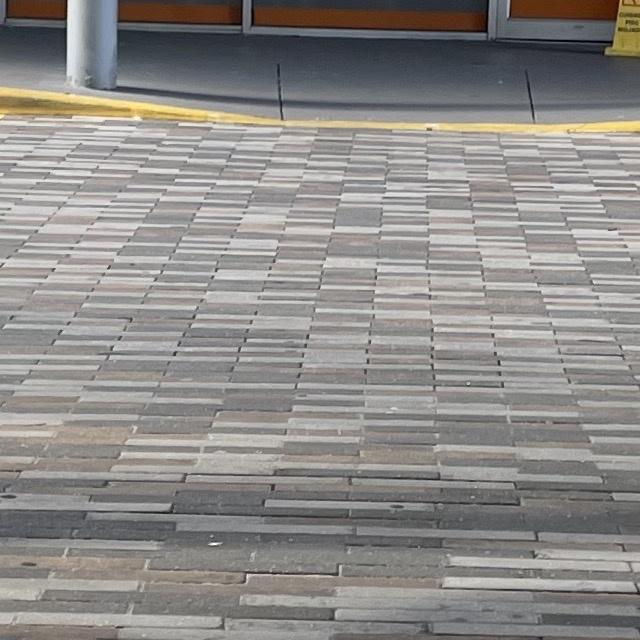curb: (0, 87, 639, 136)
